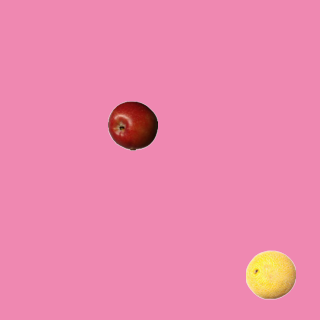Apple Braeburn: (107, 100, 157, 150)
Cantaloupe 1: (245, 249, 295, 299)
